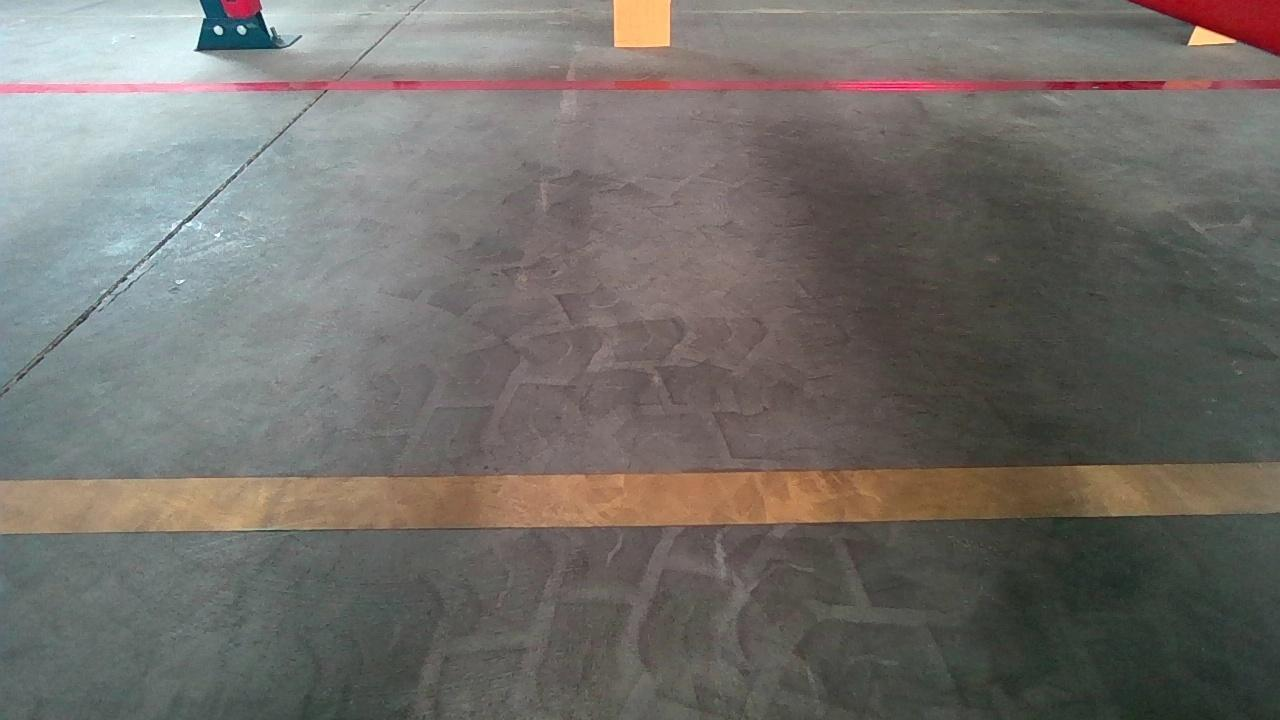red_line: (0, 74, 1276, 99)
yellow_line: (0, 461, 1278, 533)
